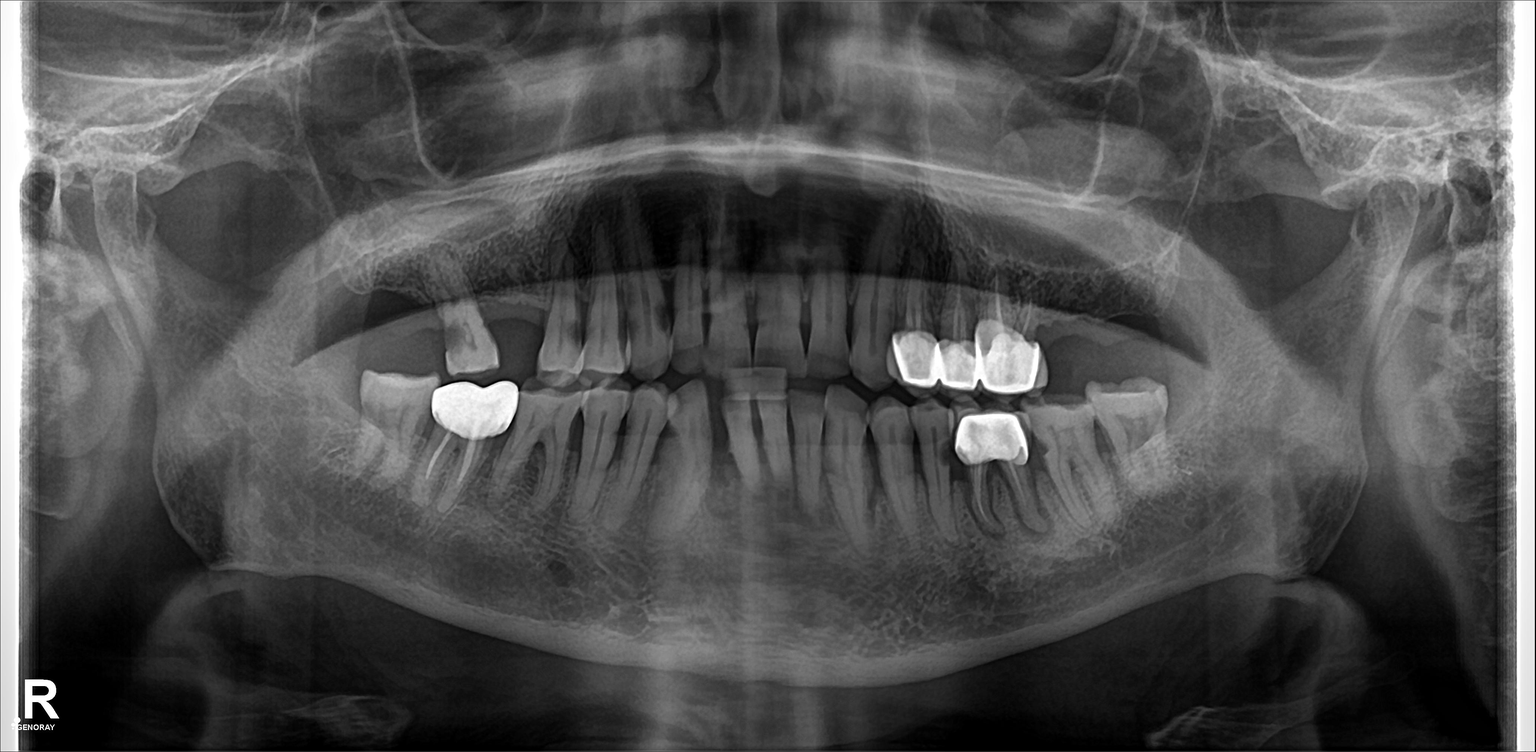Dental Caries: (439, 328, 471, 355)
Endodontically Treated Tooth: (434, 374, 502, 505), (959, 413, 1022, 530), (987, 287, 1035, 392), (889, 289, 937, 383), (942, 285, 976, 387)
Missing Tooth: (1095, 281, 1155, 374), (369, 285, 432, 371), (1160, 275, 1207, 384), (320, 270, 371, 368), (499, 281, 553, 369), (1045, 289, 1091, 384)
